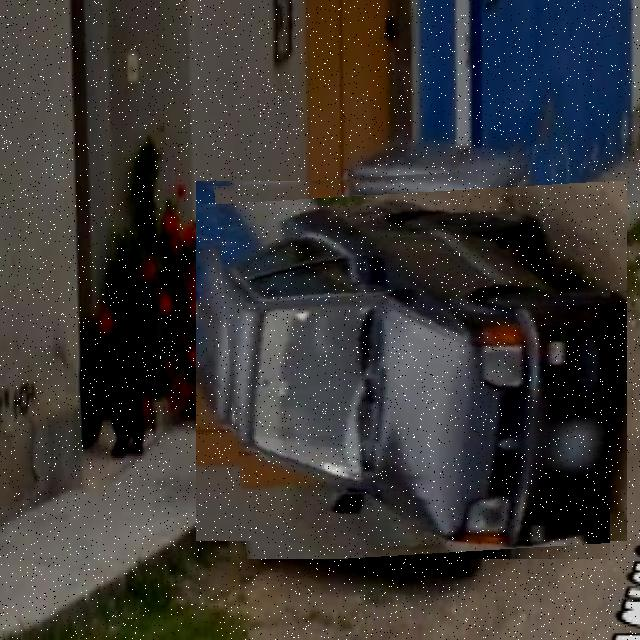car: (215, 164, 611, 560)
